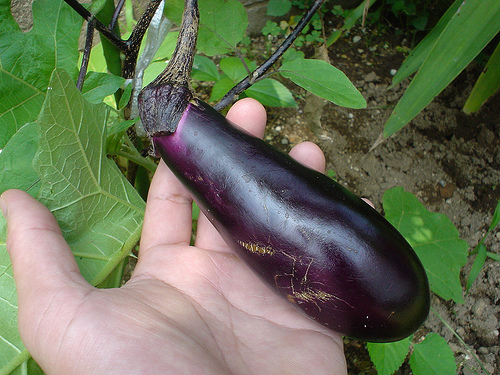eggplant: (130, 58, 432, 350)
